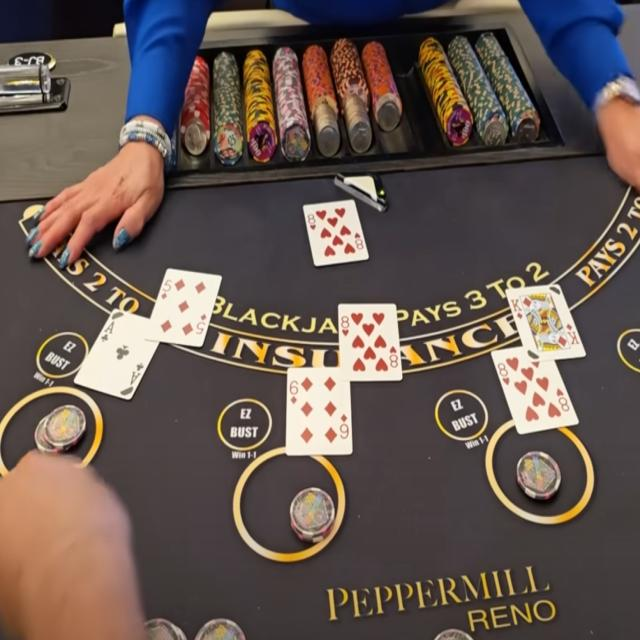5: (161, 277, 174, 293)
6: (288, 379, 299, 396)
8: (496, 361, 509, 377), (339, 314, 350, 330), (306, 212, 317, 225)
A: (104, 319, 115, 335)
K: (510, 298, 522, 312)
